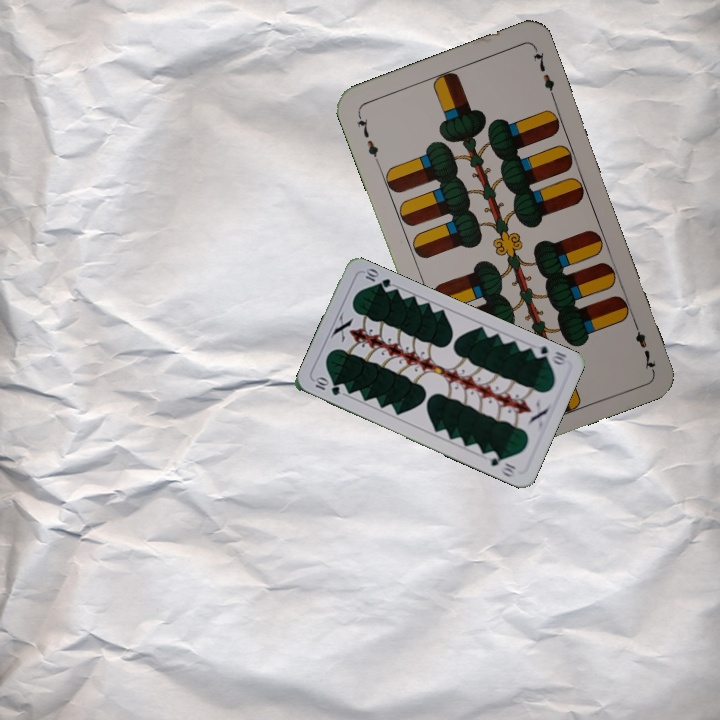E7: (629, 316, 659, 373), (353, 110, 383, 166)
G10: (529, 342, 569, 368), (310, 374, 343, 398)
